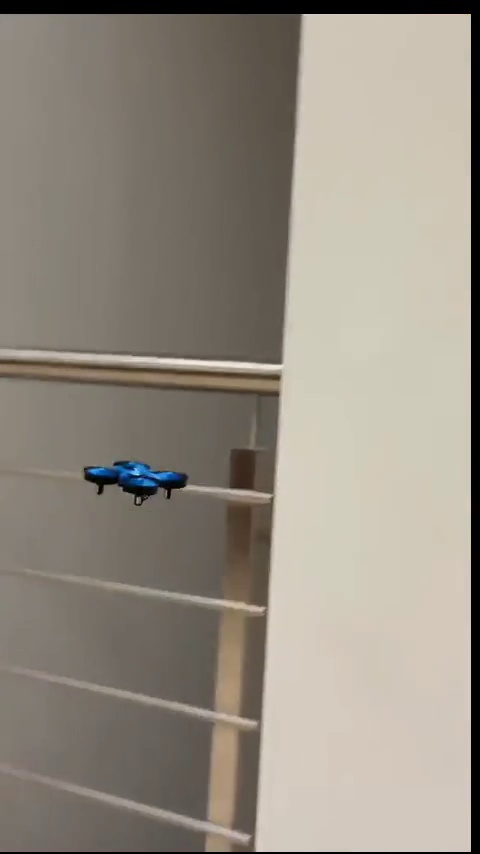drone: (85, 460, 182, 508)
